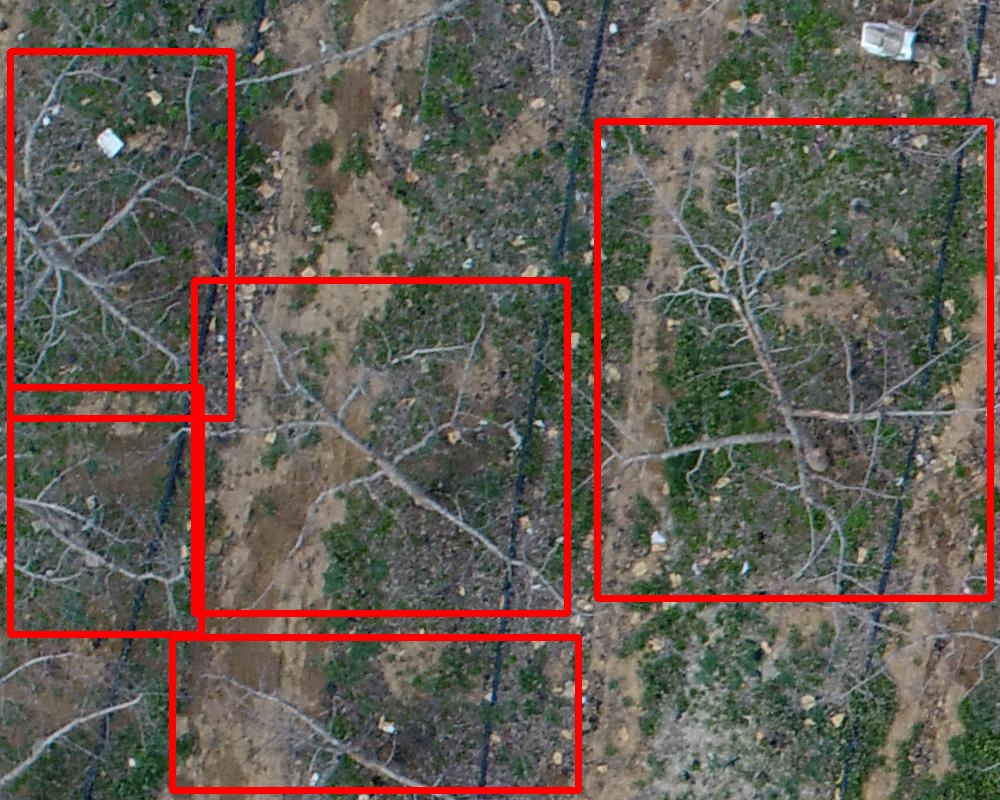apple: (597, 121, 990, 598), (194, 280, 567, 613), (10, 51, 231, 418), (172, 637, 578, 790), (10, 387, 201, 634)
